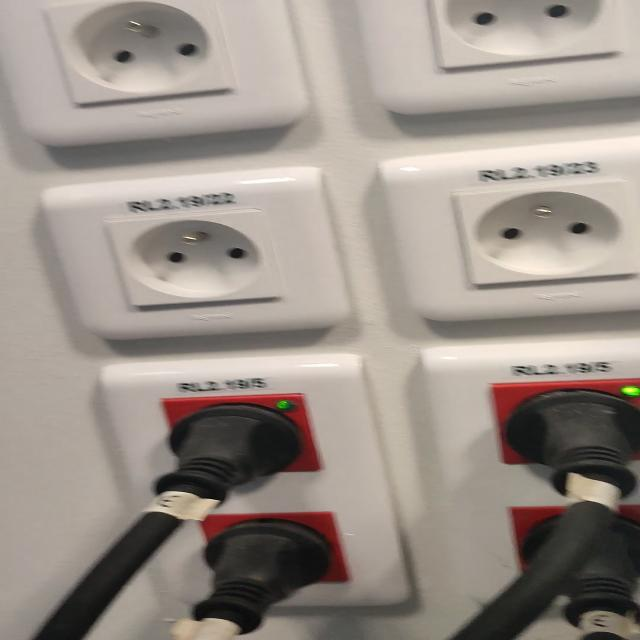house plug: (46, 0, 240, 107), (451, 178, 640, 285), (103, 208, 286, 308), (427, 0, 626, 71)
